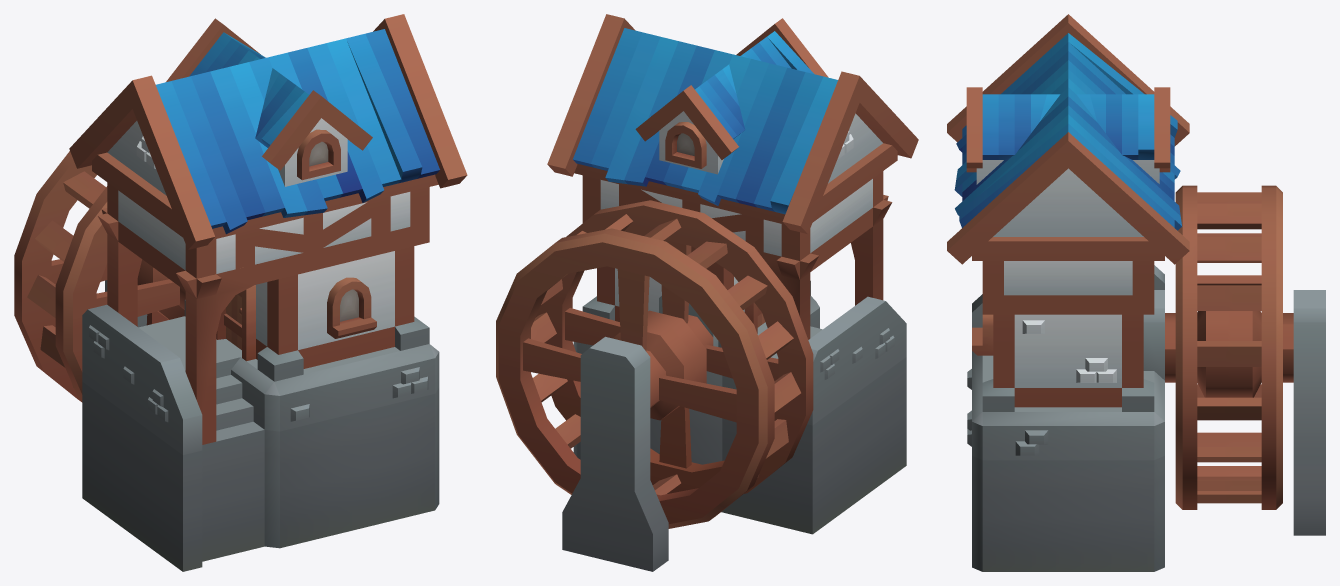
File: kay-moinho-agua.gltf
3 views of the same model, side by side, from view 1: azimuth 30°, elevation 25°; view 2: azimuth 150°, elevation 25°; view 3: azimuth 270°, elevation 25° (orthographic). The views are drawn at different scales.
Parts seen in each view (by area): view 1: building_watermill_blue; view 2: building_watermill_blue; view 3: building_watermill_blue.
Part boxes in pixels (x1,y1,x2,y2): building_watermill_blue: (14,14,467,571); building_watermill_blue: (496,14,918,571); building_watermill_blue: (947,14,1325,571).
Size of the model in its own units: 5.25 by 7.84 by 6.18.
1 material, 1 textured.
